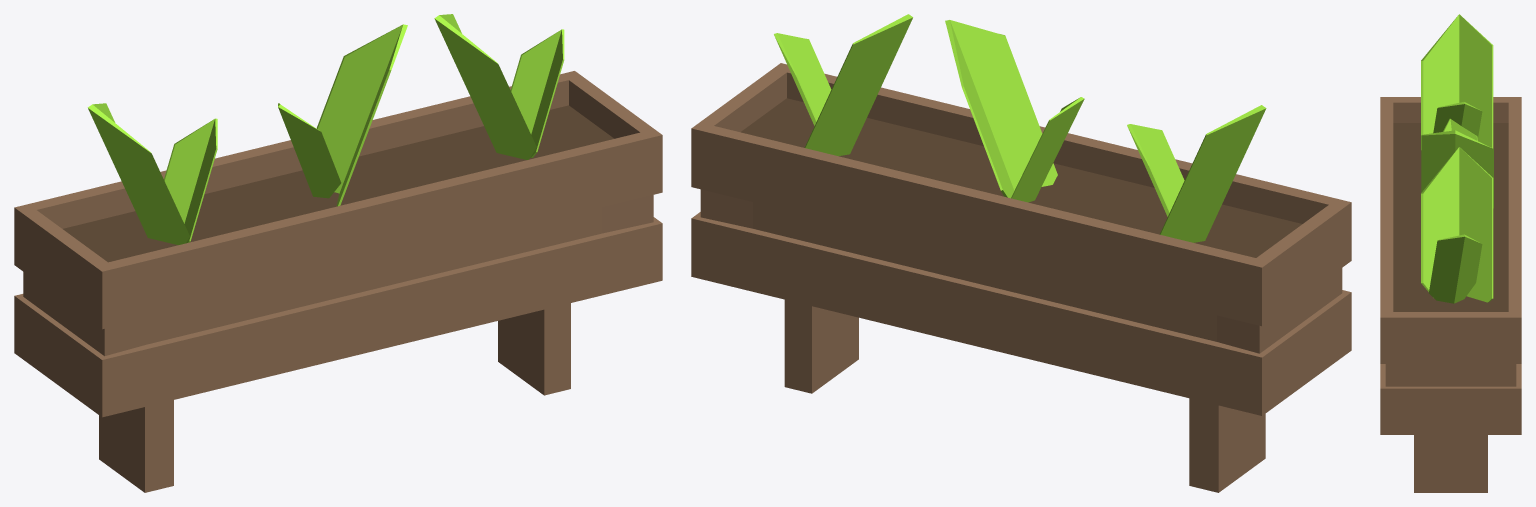
File: Vazonas.glb
The picture shows the model from 3 angles, left to right: view 1: azimuth 30°, elevation 25°; view 2: azimuth 150°, elevation 25°; view 3: azimuth 270°, elevation 25°; orthographic projection. The views are drawn at different scales.
Parts seen in each view (by area): view 1: Vazonas; view 2: Vazonas; view 3: Vazonas.
Boxes of the visible parts, x1=… form: Vazonas: x1=14, y1=14, x2=662, y2=492; Vazonas: x1=691, y1=14, x2=1351, y2=492; Vazonas: x1=1380, y1=14, x2=1521, y2=492.
Size of the model in its own units: 0.7253 by 0.4705 by 0.1968.
